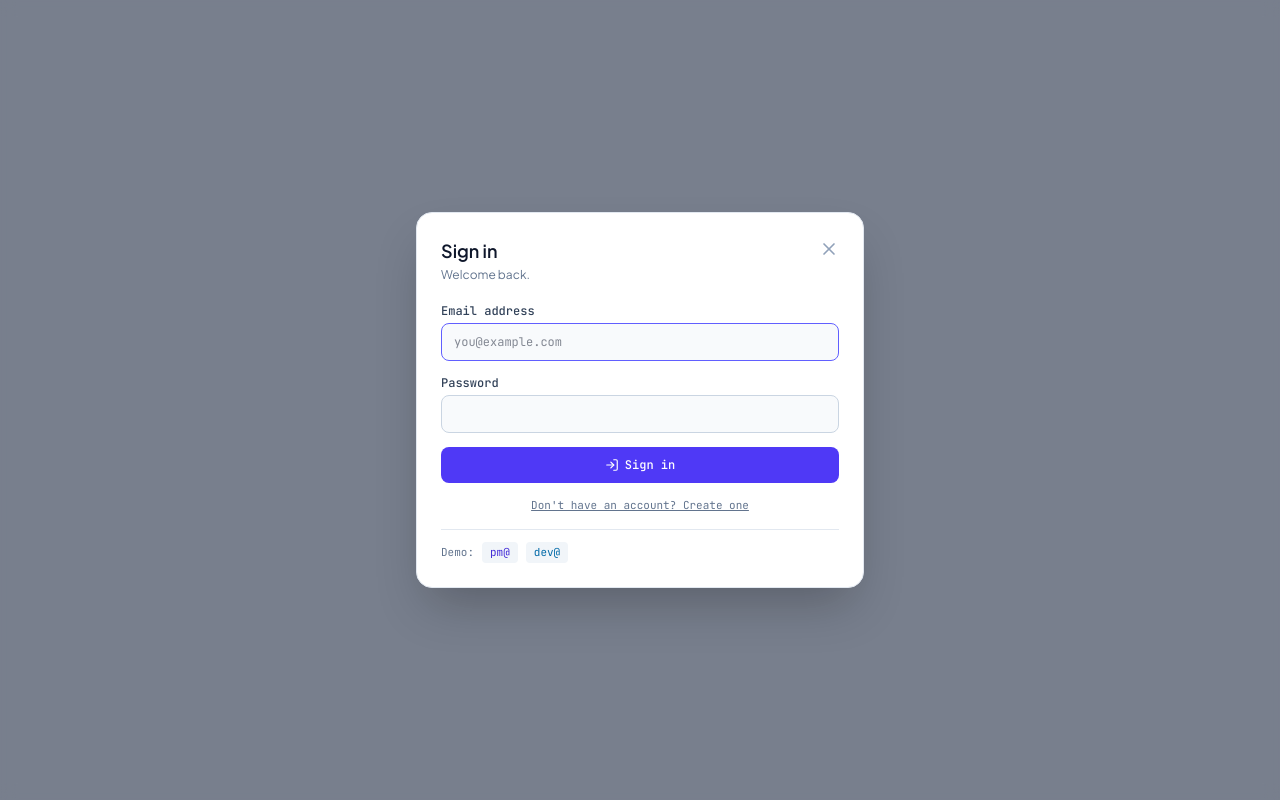
Test case: rendering › switches between sign-in and sign-up
This screenshot has width=1280, height=800.
Step 1. Click the button "Don't have an account? Create one" → (640, 506), box [441,498,839,513]
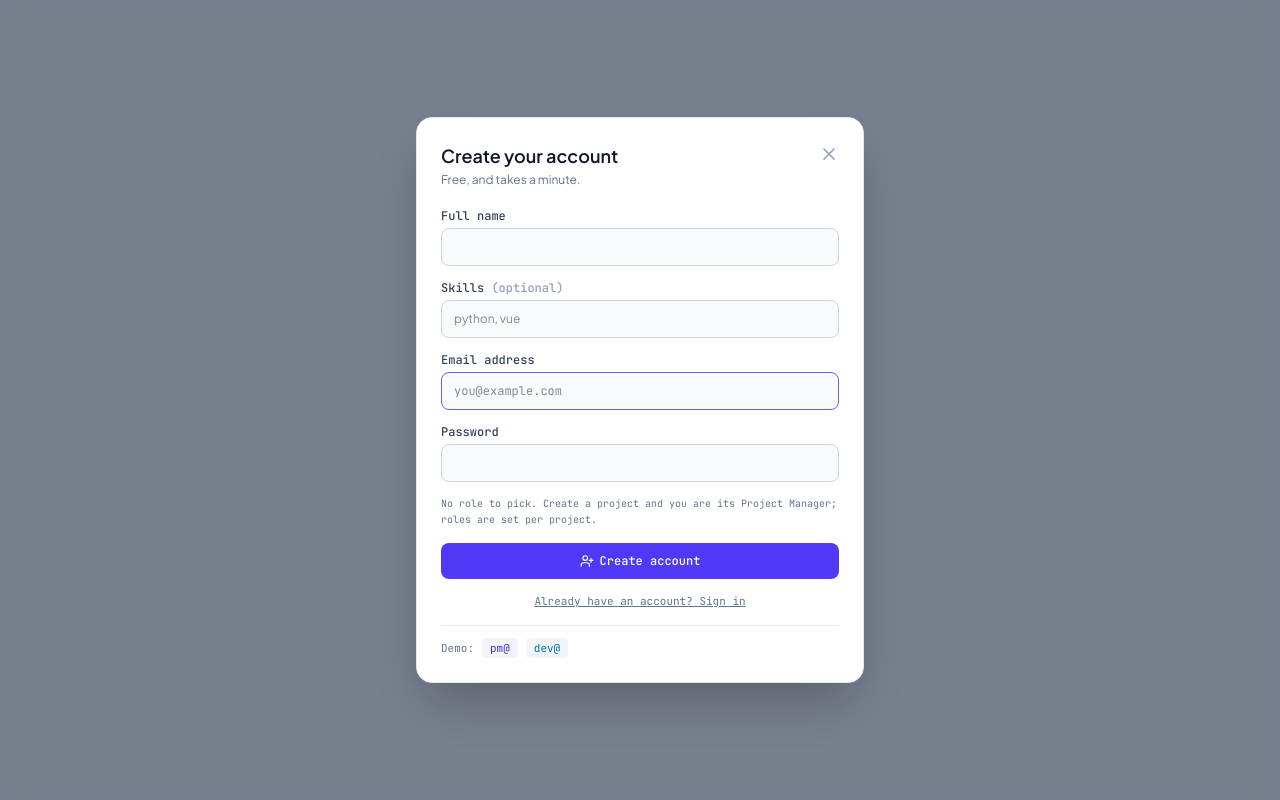
Now the field with id "auth-name" is shown, box [441,228,839,266]
